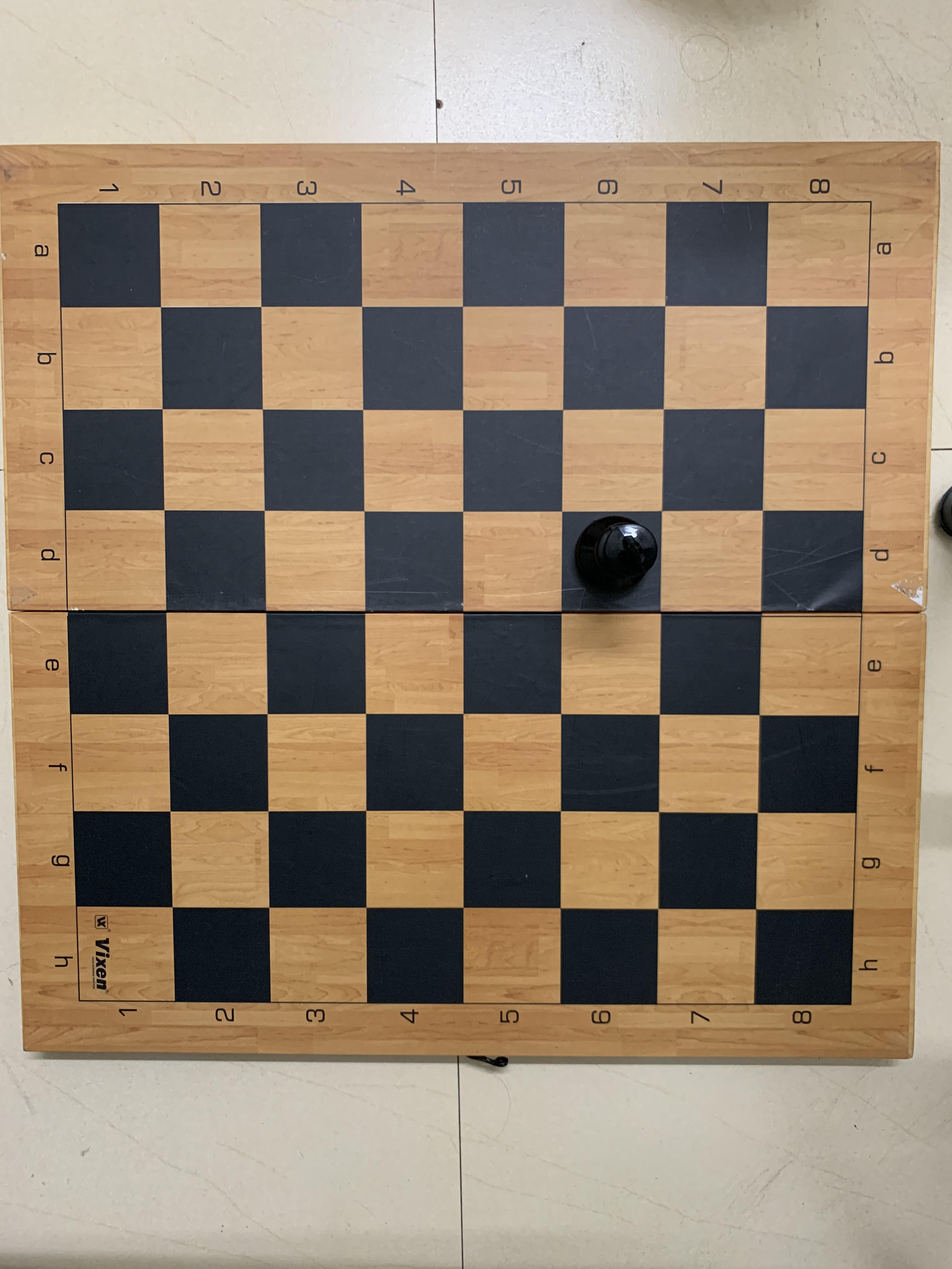black_king: (562, 505, 663, 619)
